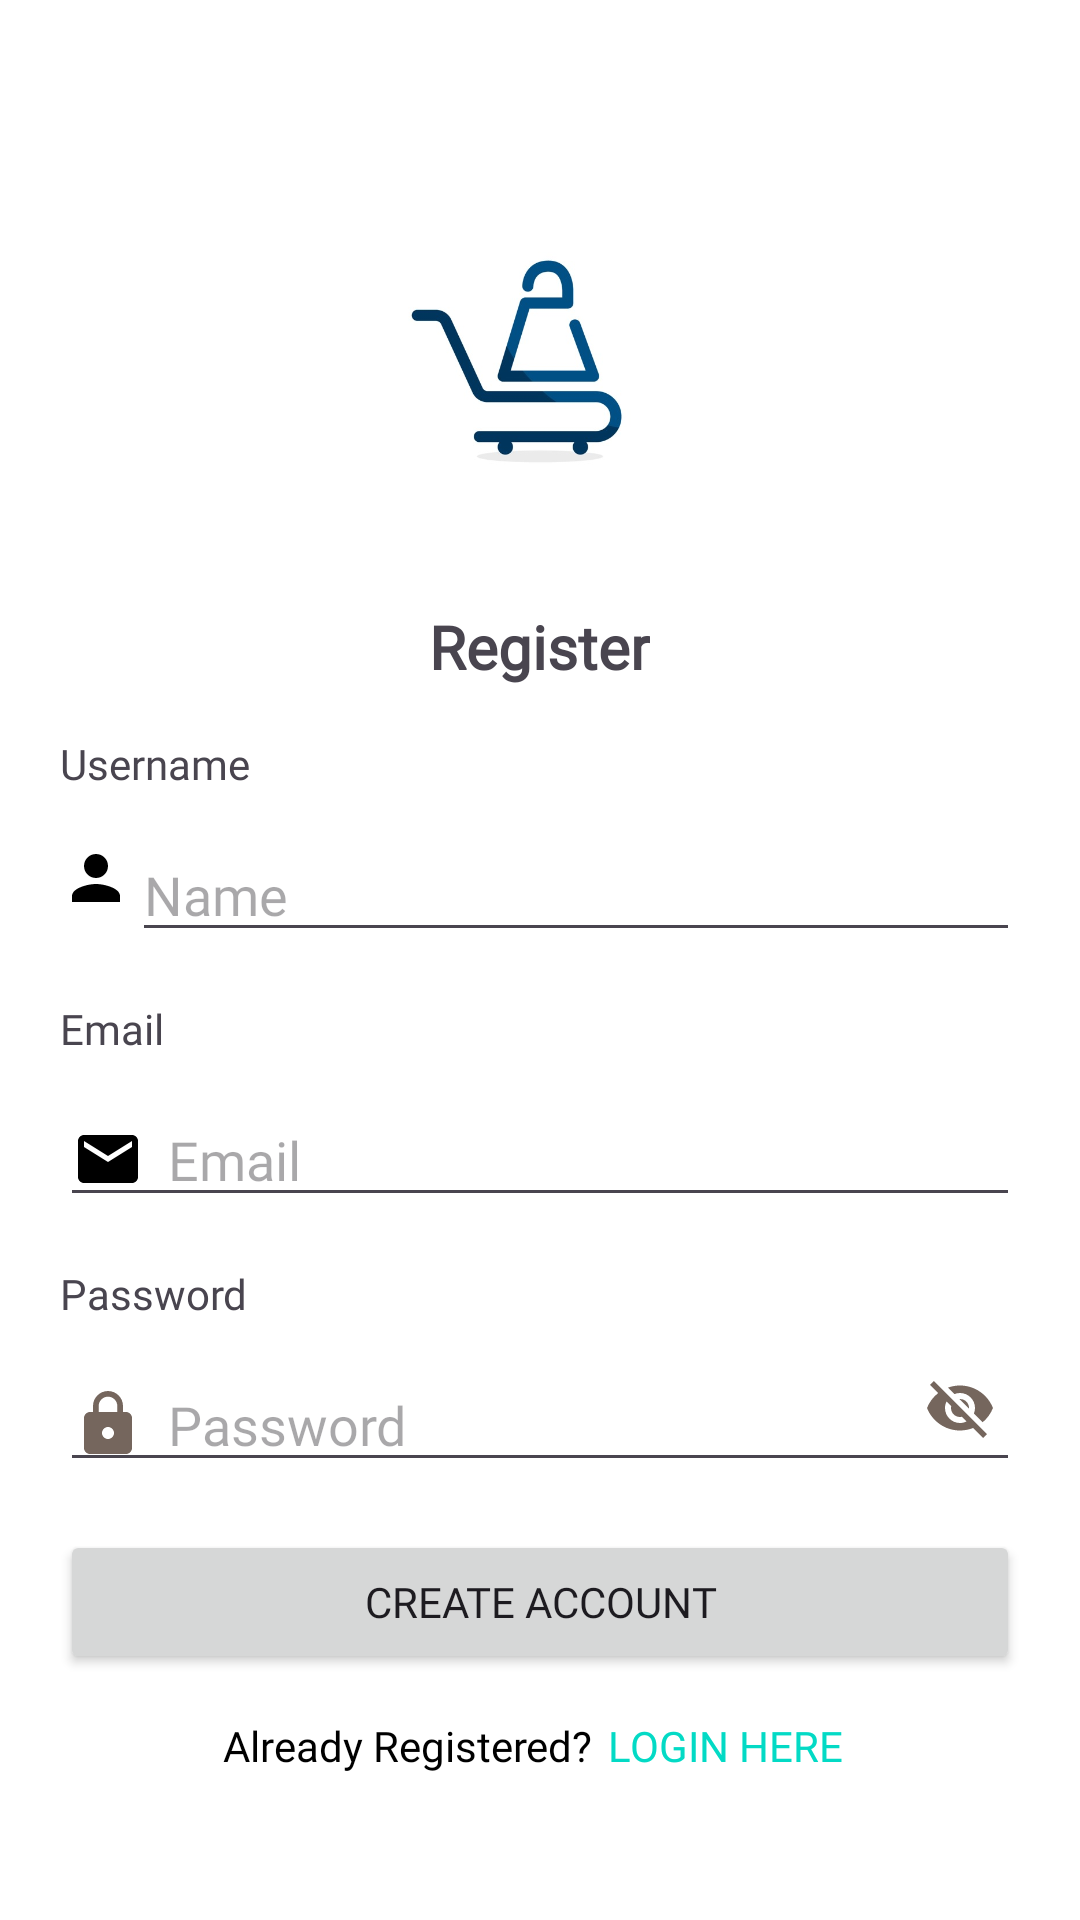

Point at icon controls on the screen. Image size 1080 x 1920, points as point (x, y).
profile: point (96, 878)
